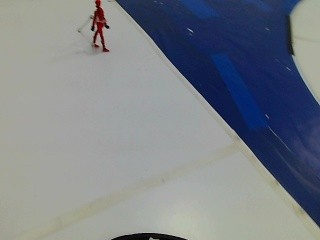pedestrian: (73, 0, 118, 56)
